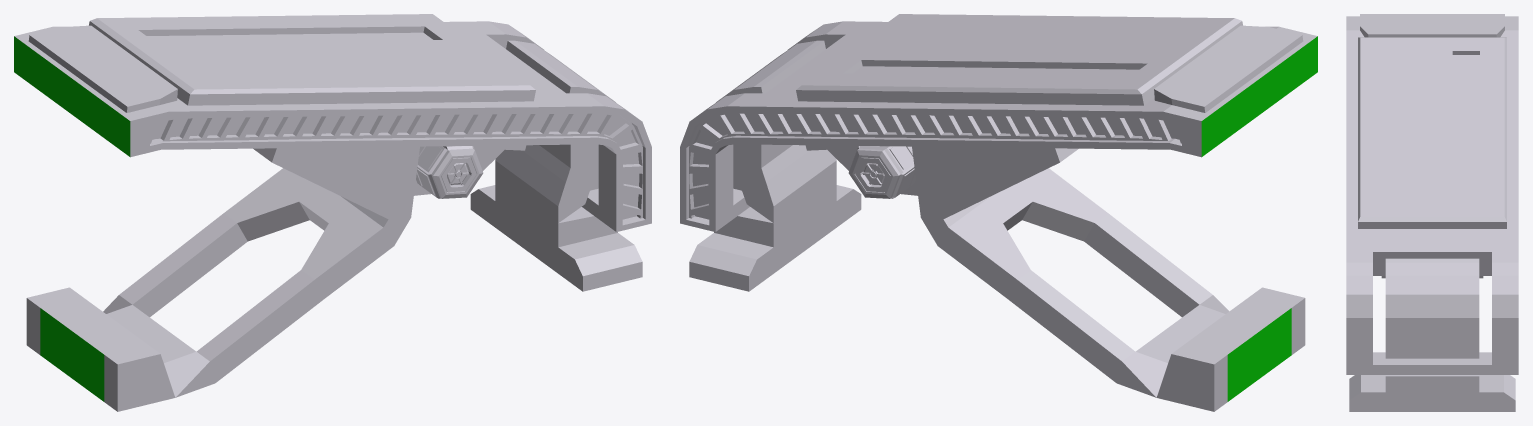
File: Curve Wing.fbx
3 views of the same model, side by side, from view 1: azimuth 30°, elevation 25°; view 2: azimuth 150°, elevation 25°; view 3: azimuth 270°, elevation 25° (orthographic). The views are drawn at different scales.
Parts seen in each view (by area): view 1: Curve Wing; view 2: Curve Wing; view 3: Curve Wing.
Boxes of the visible parts, bbox=[...] form: Curve Wing: bbox=[14, 14, 651, 411]; Curve Wing: bbox=[680, 14, 1317, 411]; Curve Wing: bbox=[1346, 14, 1518, 411].
Bounding box in the file's own units: 5.19 × 2.92 × 2.
